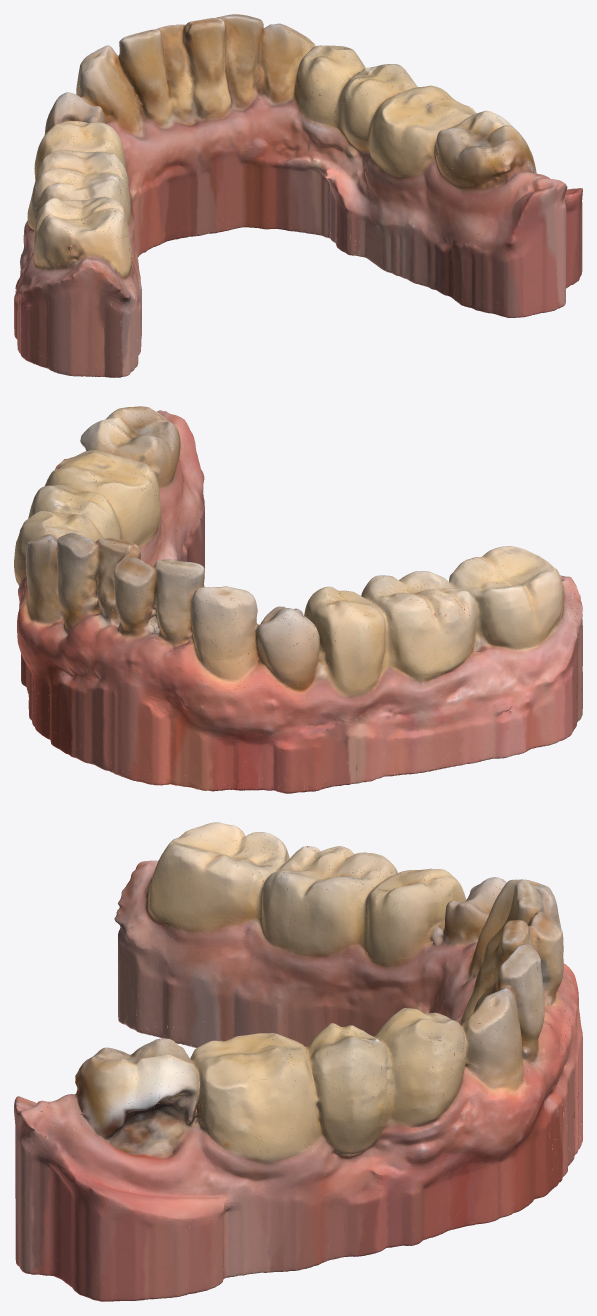
File: Caries.gltf
3 renders of one model, top to bottom at view 1: azimuth 30°, elevation 25°; view 2: azimuth 150°, elevation 25°; view 3: azimuth 270°, elevation 25°, orthographic. The views are drawn at different scales.
Visible parts, largest first — view 1: Object_6, Object_12, Object_9, Object_11, Object_7, Object_13, Object_3, Object_10, Object_8, Object_4, Object_2, Object_14 (+4 smaller); view 2: Object_16, Object_2, Object_15, Object_5, Object_4, Object_3, Object_17, Object_14, Object_13, Object_12, Object_7, Object_11 (+4 smaller); view 3: Object_14, Object_13, Object_12, Object_10, Object_7, Object_8, Object_11, Object_5, Object_6, Object_9, Object_15, Object_16 (+4 smaller).
Boxes of the visible parts, x1,y1,x2,y2 form: Object_6: [151, 62, 486, 296]; Object_12: [122, 27, 456, 264]; Object_9: [376, 172, 582, 317]; Object_11: [152, 60, 544, 287]; Object_7: [228, 99, 520, 261]; Object_13: [92, 14, 402, 255]; Object_3: [16, 173, 138, 377]; Object_10: [367, 138, 582, 314]; Object_8: [304, 111, 574, 264]; Object_4: [20, 136, 570, 376]; Object_2: [14, 204, 114, 377]; Object_14: [63, 14, 350, 285]; Object_16: [42, 545, 436, 790]; Object_2: [224, 549, 582, 793]; Object_15: [35, 541, 385, 770]; Object_5: [33, 484, 561, 793]; Object_4: [32, 546, 582, 793]; Object_3: [291, 546, 582, 790]; Object_17: [91, 575, 428, 790]; Object_14: [21, 517, 383, 751]; Object_13: [14, 485, 330, 755]; Object_12: [14, 461, 305, 728]; Object_7: [24, 408, 177, 674]; Object_11: [18, 406, 230, 694]; Object_14: [252, 879, 582, 1200]; Object_13: [311, 904, 580, 1213]; Object_12: [249, 953, 554, 1232]; Object_10: [29, 1052, 286, 1290]; Object_7: [90, 1033, 434, 1257]; Object_8: [66, 1038, 350, 1270]; Object_11: [41, 1005, 499, 1275]; Object_5: [118, 846, 582, 1270]; Object_6: [168, 1011, 486, 1256]; Object_9: [14, 1096, 282, 1301]; Object_15: [243, 878, 582, 1185]; Object_16: [186, 869, 582, 1173].
Size of the model in its own units: 70.01 by 24.53 by 52.82.
Materials: 1 (1 with a texture image).
